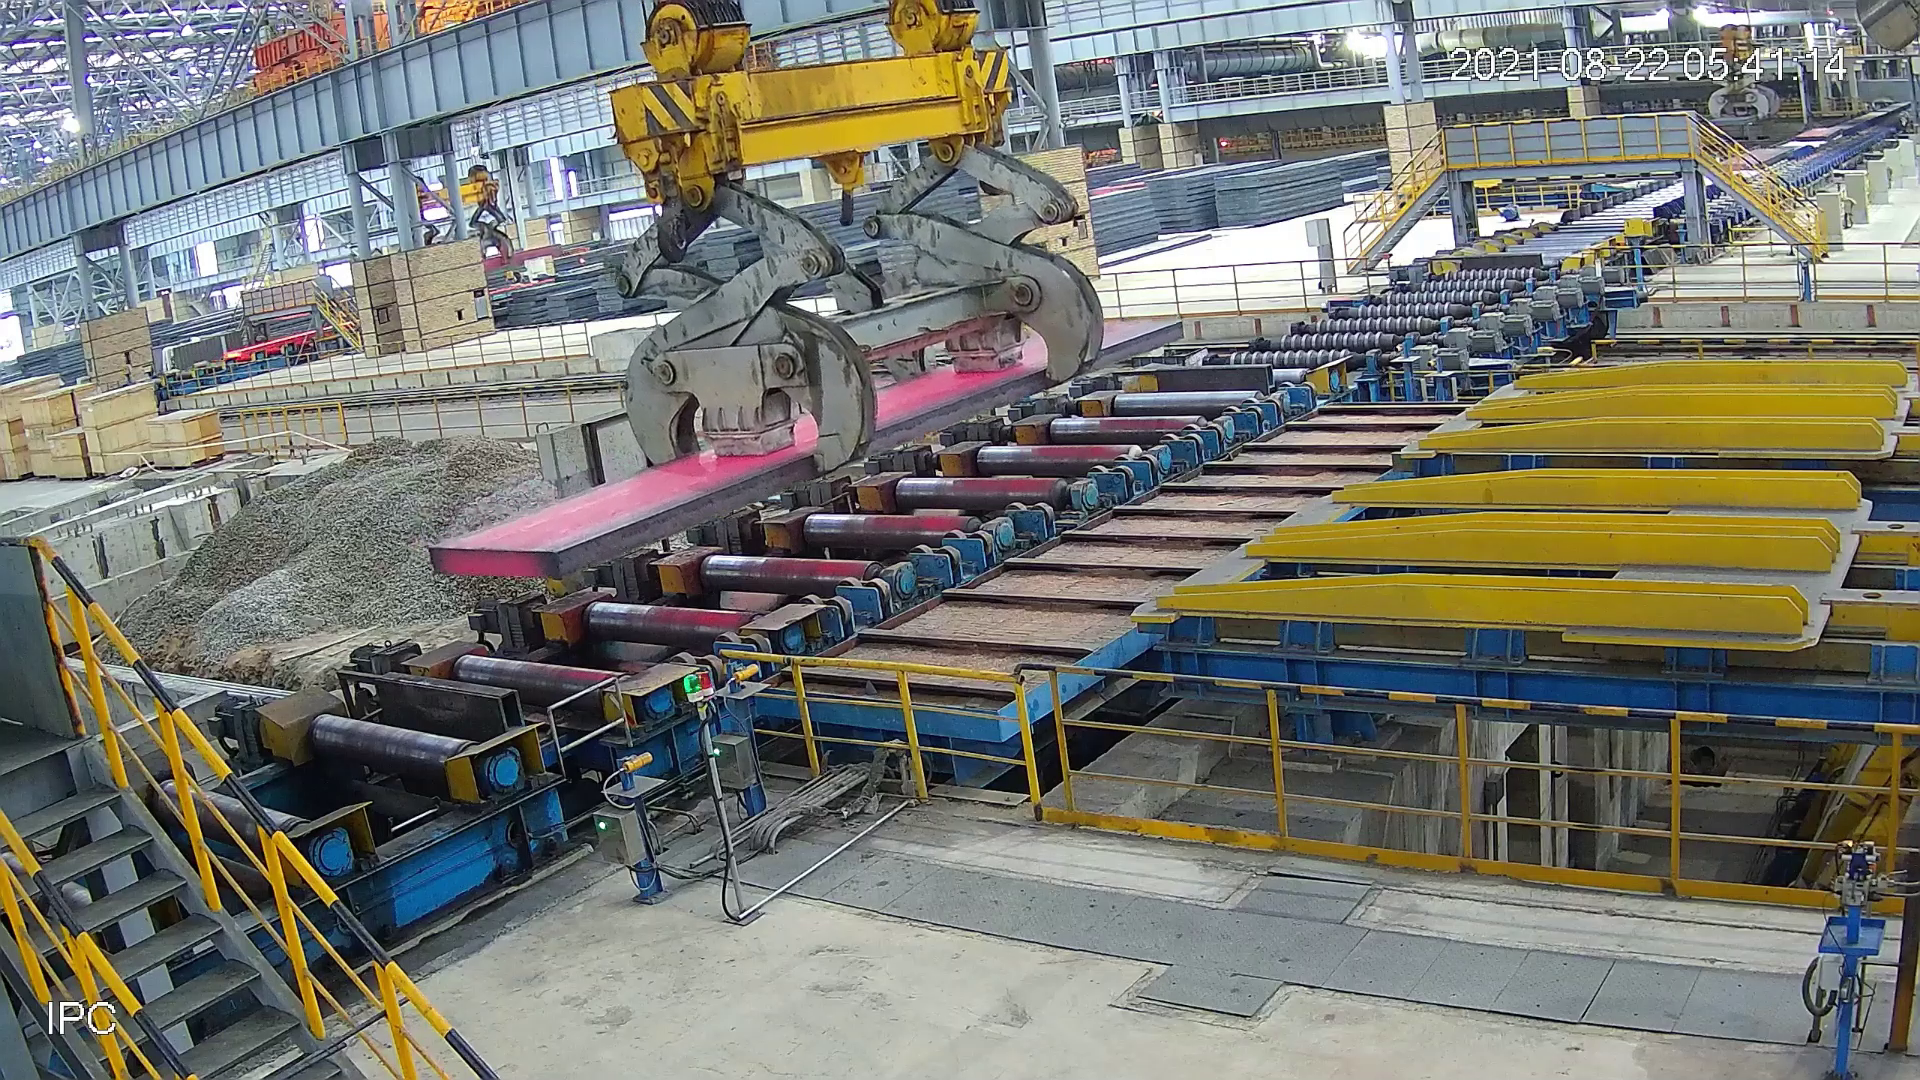craneandslab: (422, 1, 1207, 589), (1695, 18, 1785, 136)
